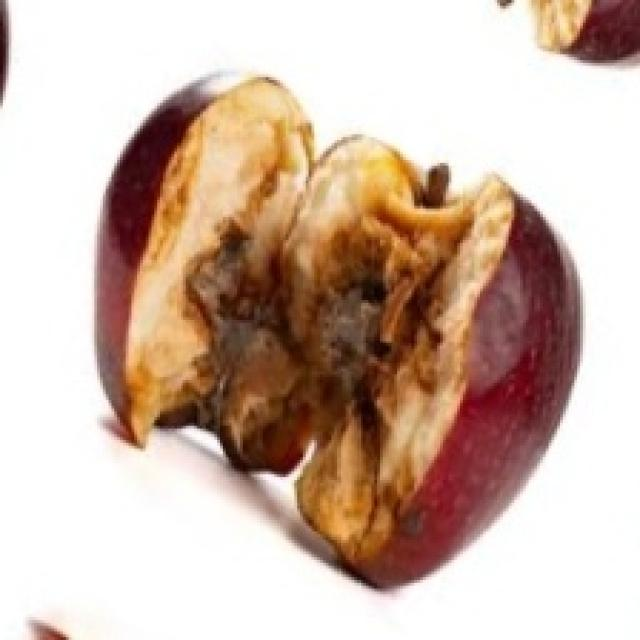rotten_apple: (102, 72, 570, 584)
